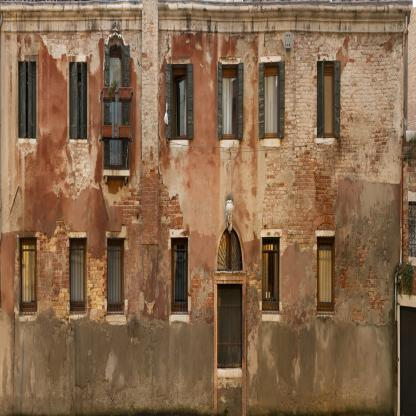Balcony: (100, 87, 134, 175)
Blind: (123, 45, 130, 170), (104, 44, 110, 169), (28, 61, 36, 139), (70, 63, 78, 140), (18, 62, 26, 138), (333, 60, 340, 138), (166, 63, 173, 140), (187, 63, 194, 140), (317, 62, 324, 139), (81, 61, 87, 140), (238, 62, 244, 139), (259, 63, 265, 140), (279, 62, 285, 139), (218, 62, 222, 139)
Building Outline: (0, 0, 413, 416)
Cornice: (169, 229, 190, 238), (260, 229, 282, 237), (168, 57, 190, 65), (260, 55, 281, 63), (219, 57, 240, 65), (315, 229, 335, 237), (262, 315, 281, 322)
Deco: (226, 199, 234, 234)
Door: (217, 284, 242, 369), (109, 44, 124, 169)
Facade: (0, 0, 403, 416)
Floor Slab: (1, 176, 403, 190)
Ground Floor: (1, 190, 403, 415), (1, 1, 403, 190)
Sill: (169, 315, 190, 324), (260, 139, 281, 147), (169, 140, 190, 148), (220, 140, 239, 148), (314, 137, 335, 144)
Window: (317, 236, 335, 316), (18, 62, 36, 139), (19, 237, 37, 314), (170, 238, 188, 315), (69, 62, 87, 139), (69, 238, 87, 313), (263, 61, 280, 139), (108, 237, 125, 314), (262, 237, 279, 314), (317, 62, 334, 139), (171, 63, 188, 140), (222, 64, 239, 139), (217, 227, 243, 271)
